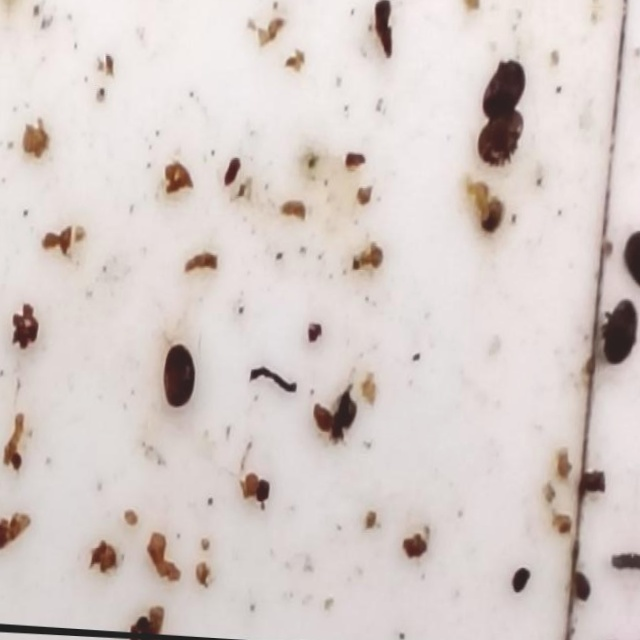varroa: (471, 110, 525, 170), (156, 339, 195, 412), (480, 57, 525, 116), (565, 566, 591, 605), (507, 565, 529, 596)
